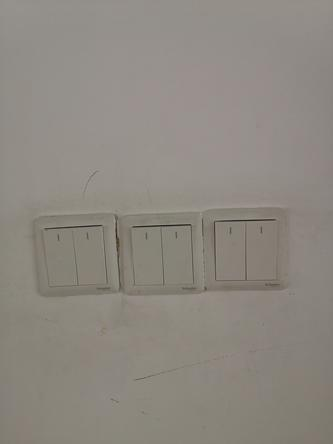switch: (38, 222, 83, 288), (68, 221, 111, 286), (211, 216, 250, 285), (157, 221, 197, 288), (242, 217, 281, 283), (129, 222, 167, 288)
